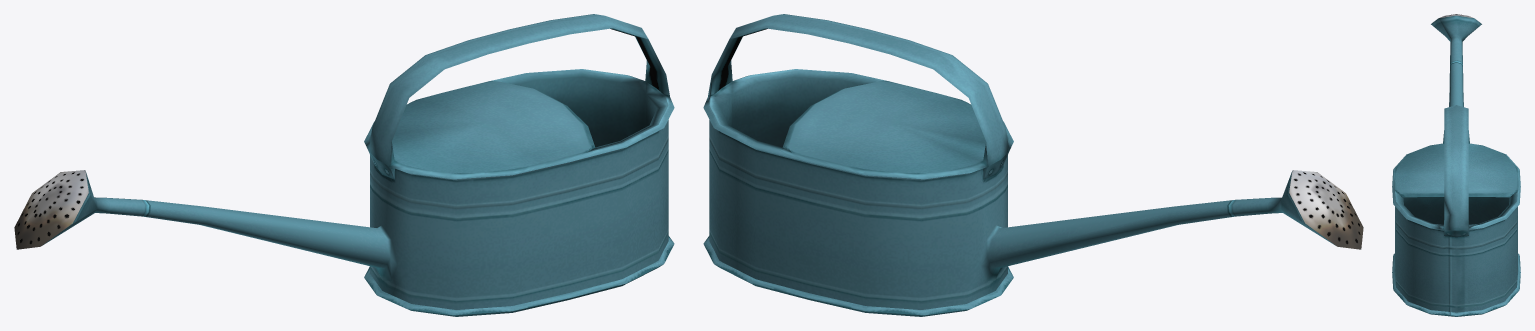
Rendered from Furniture_wateringcan_01b_LOD1.fbx.
3 views of the same model, side by side, from view 1: azimuth 30°, elevation 25°; view 2: azimuth 150°, elevation 25°; view 3: azimuth 270°, elevation 25° (orthographic). The views are drawn at different scales.
Visible parts, largest first — view 1: Furniture_wateringcan_01b_LOD1; view 2: Furniture_wateringcan_01b_LOD1; view 3: Furniture_wateringcan_01b_LOD1.
Part boxes in pixels (x1,y1,x2,y2): Furniture_wateringcan_01b_LOD1: (14,14,674,316); Furniture_wateringcan_01b_LOD1: (703,14,1363,316); Furniture_wateringcan_01b_LOD1: (1392,14,1520,316).
Bounding box in the file's own units: 80.24 × 27.71 × 22.
